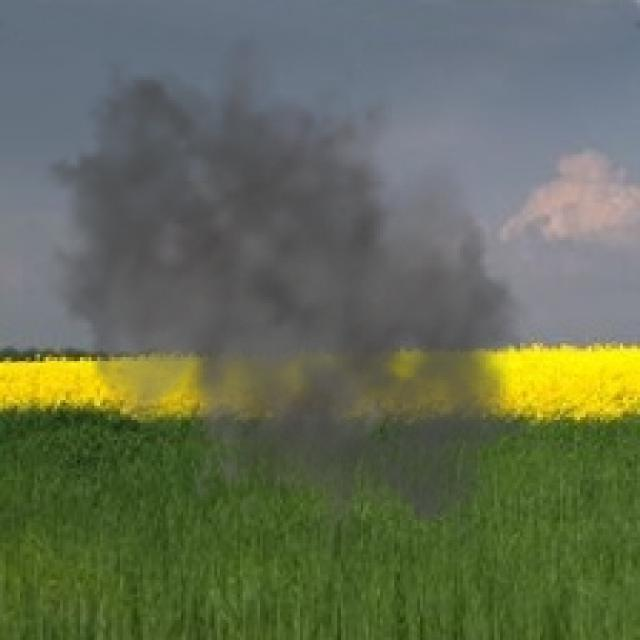Smoke: (11, 34, 566, 566)
